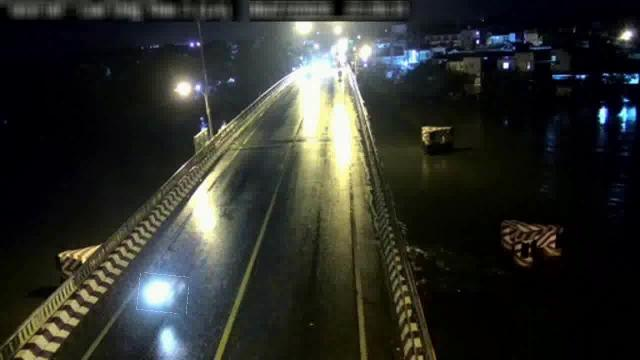Bike: (138, 274, 188, 314)
